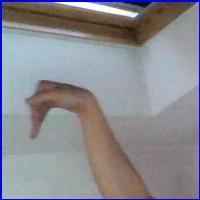del: (24, 76, 100, 146)
